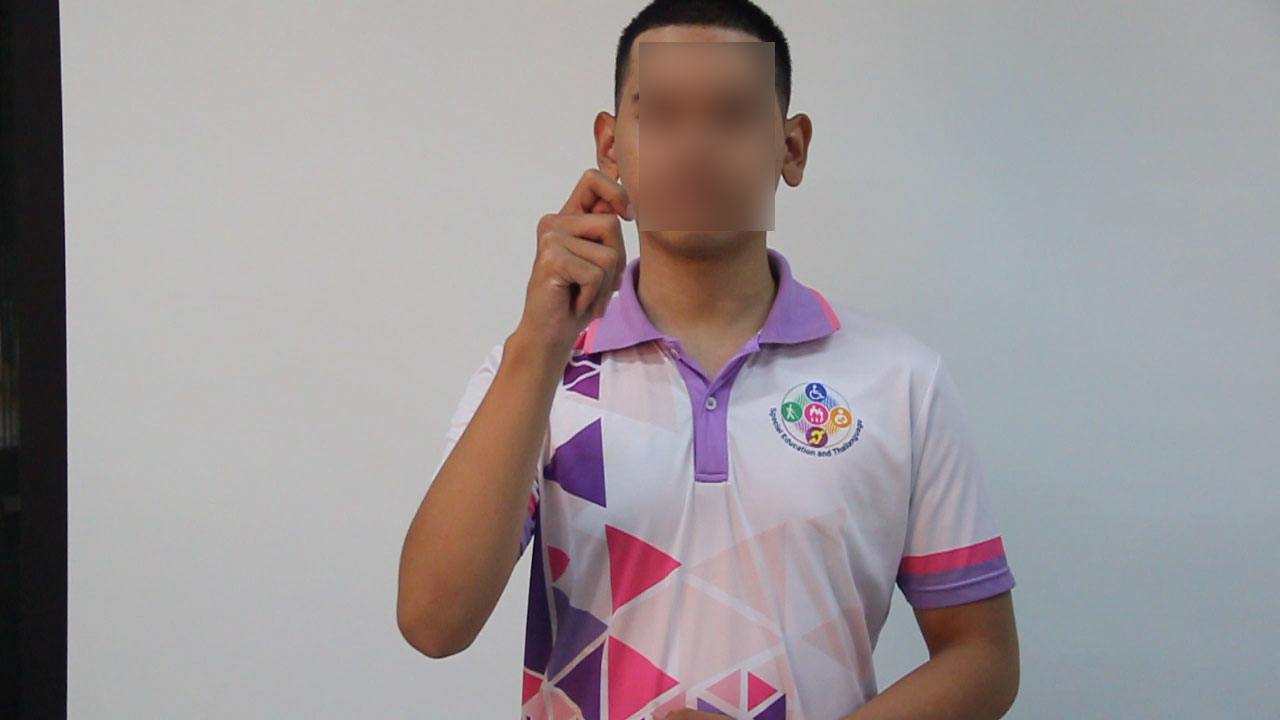or: (518, 163, 645, 349)
